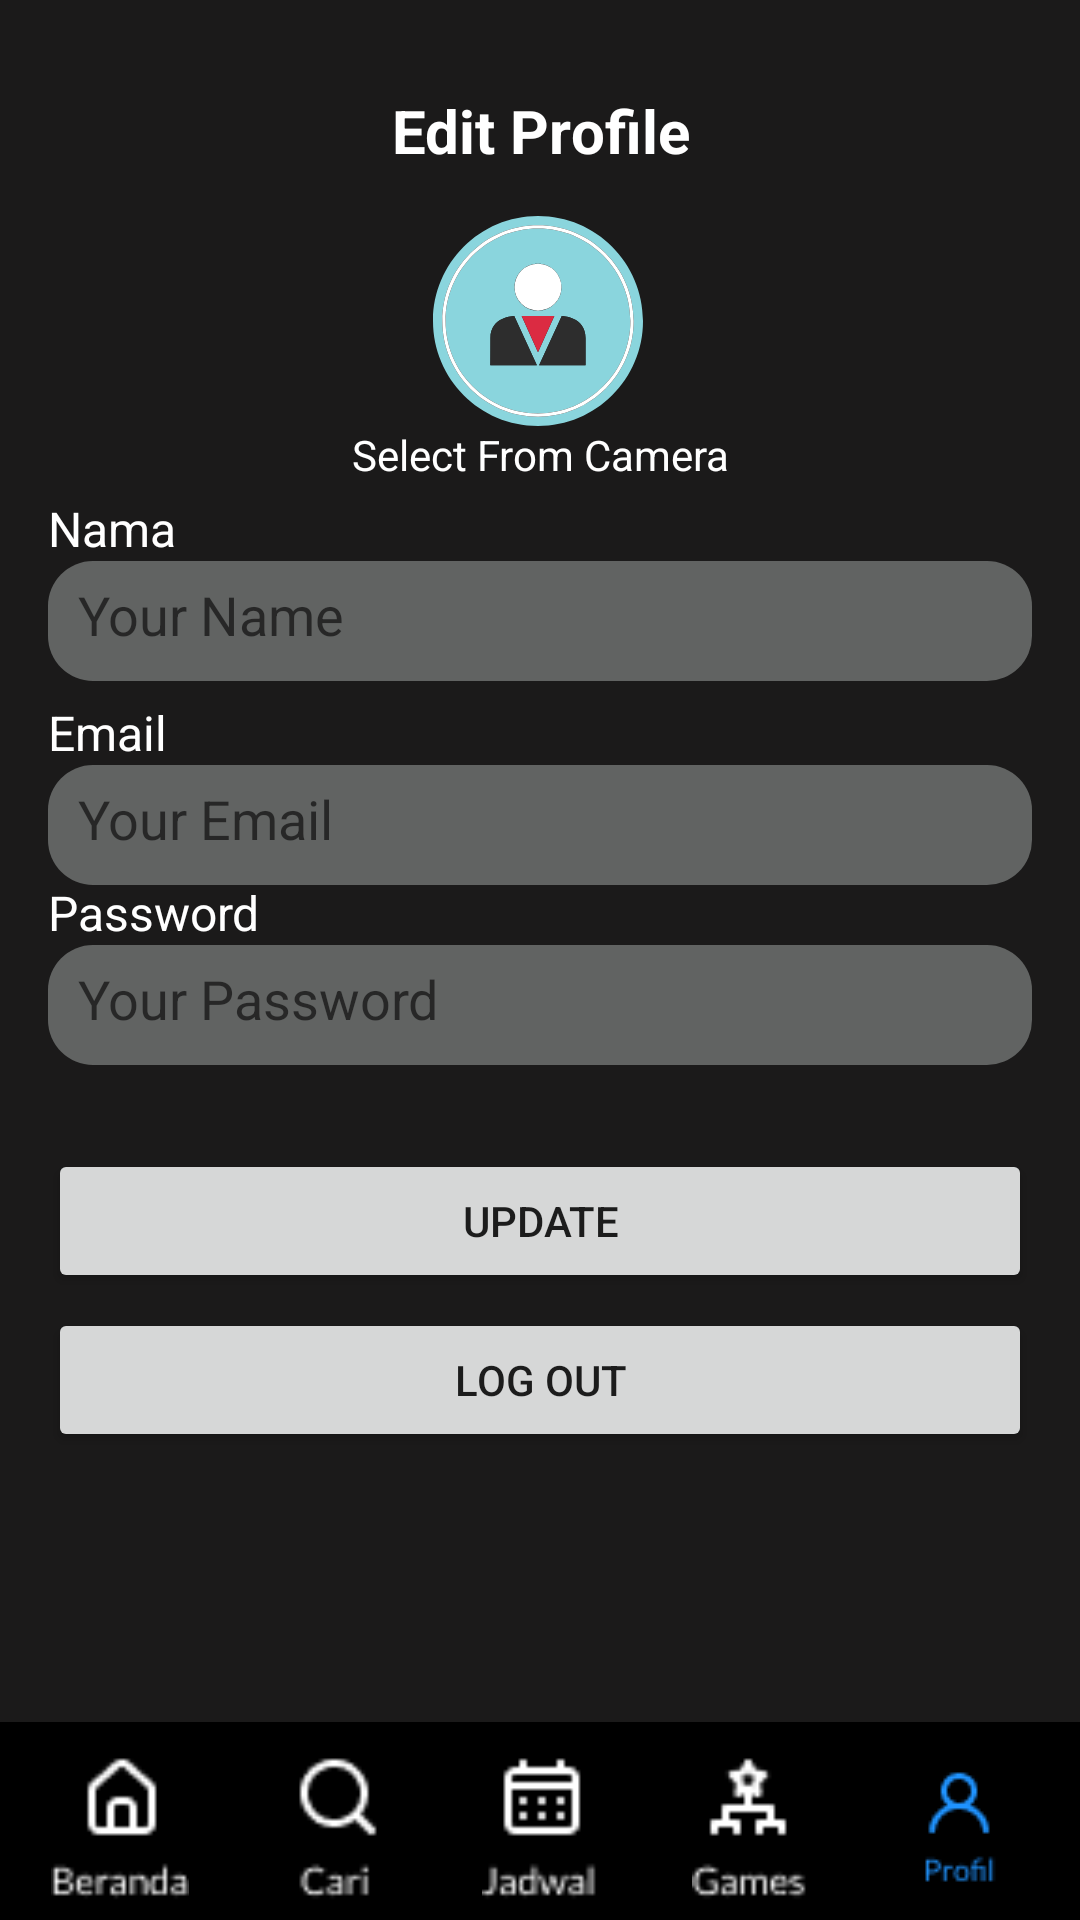

Icon click points for this 1080w x 1920h phone screenshot, format (x=x, y=y):
user profile: (x=538, y=321)
